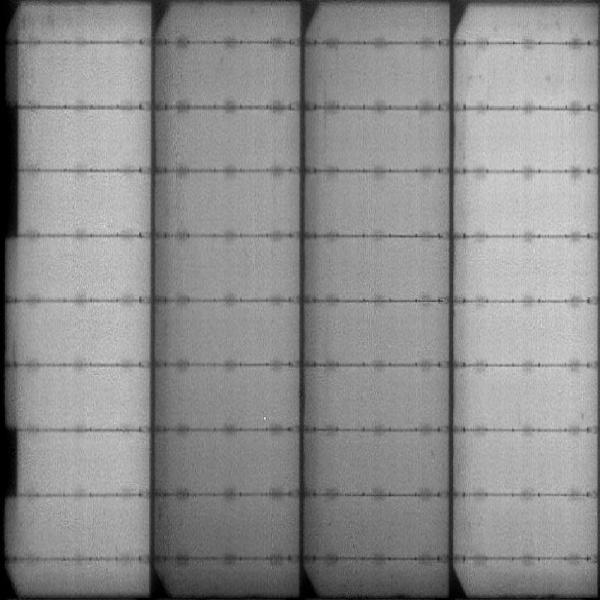black_border: (1, 25, 21, 245), (1, 420, 21, 504)
